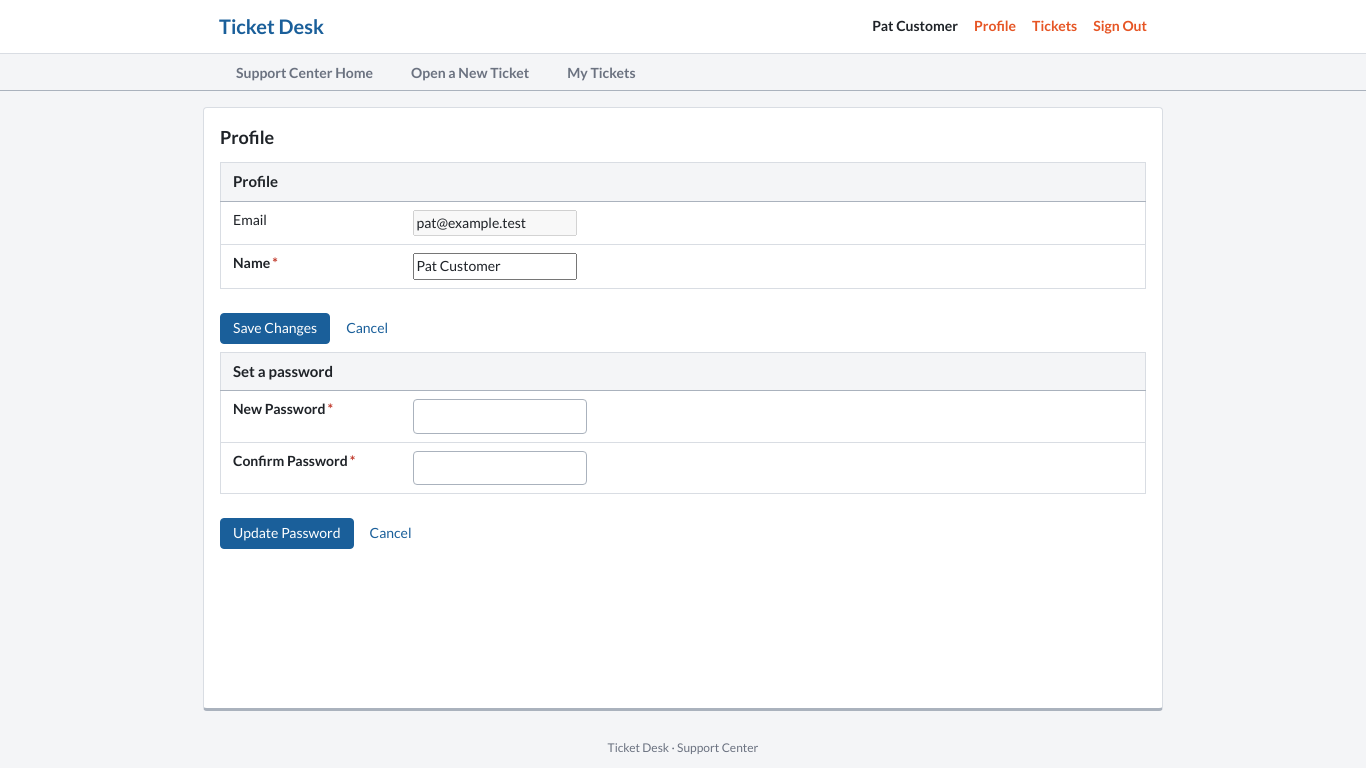
Test: has_password: false shows "Set a password" with no Current Password field and posts only password
Expected: the field labelled "Name*" is shown, [412,253,576,280]
Expected: the column heading "Set a password" is shown, [220,352,1146,391]
Type "newpass1" into the password field labelled "New Password*" at (500, 416), box [412,399,586,434]
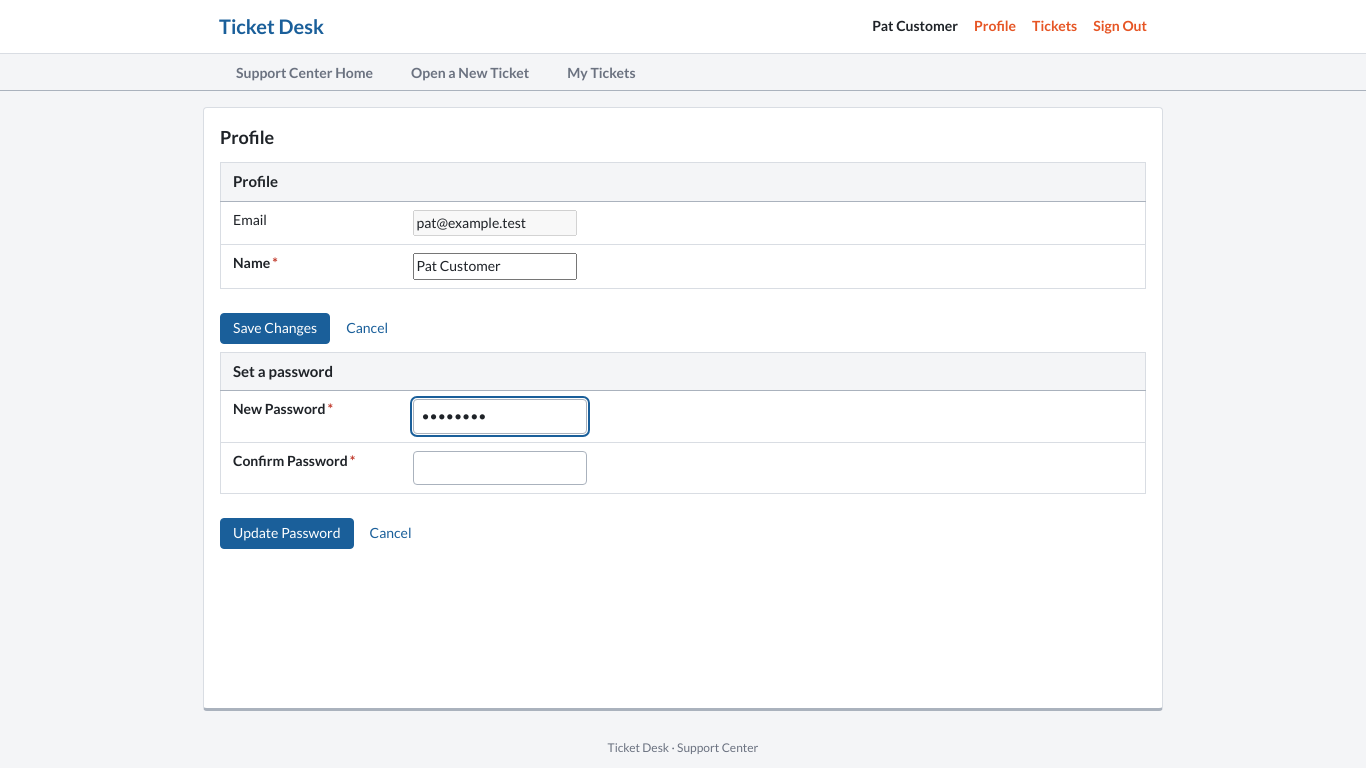
Type "newpass1" into the password field labelled "Confirm Password*" at (500, 468), box [412,451,586,485]
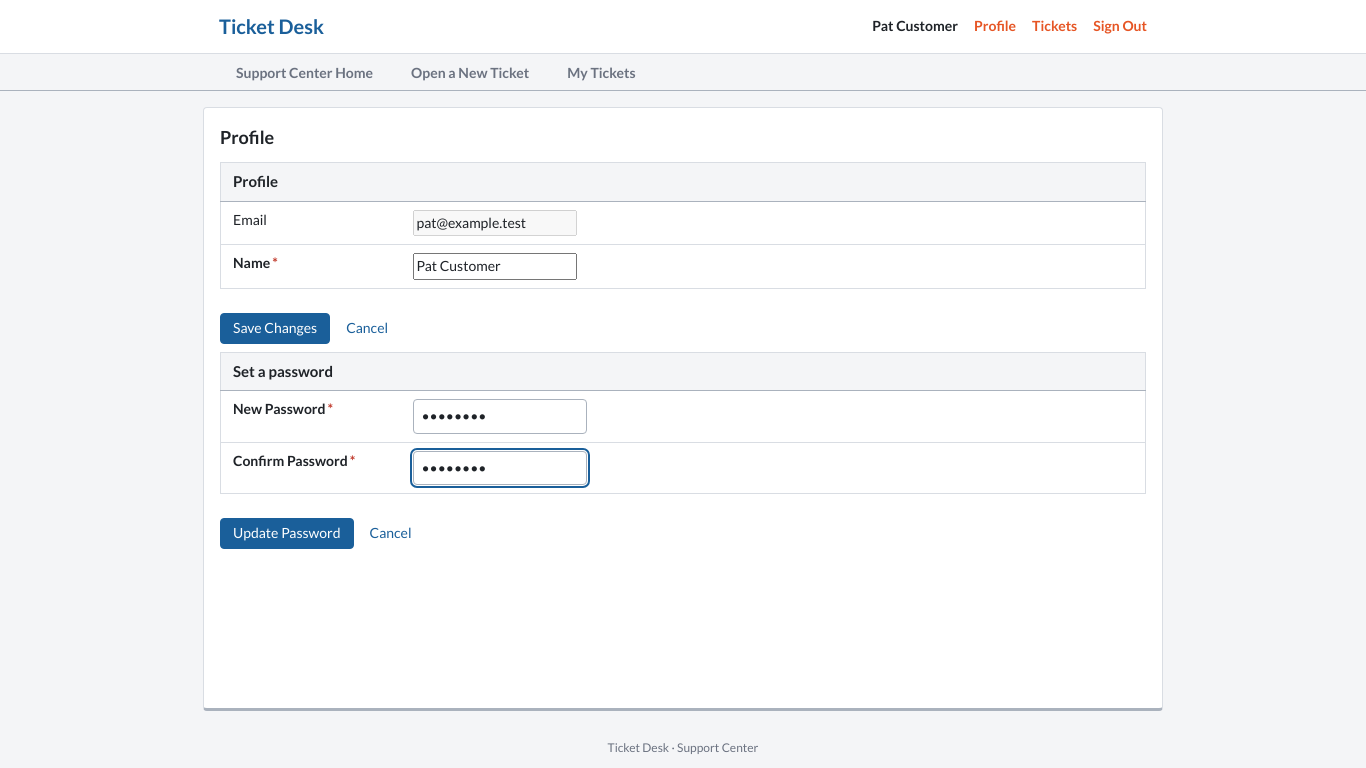
Click the button "Update Password" at (287, 533), box [220,518,354,549]
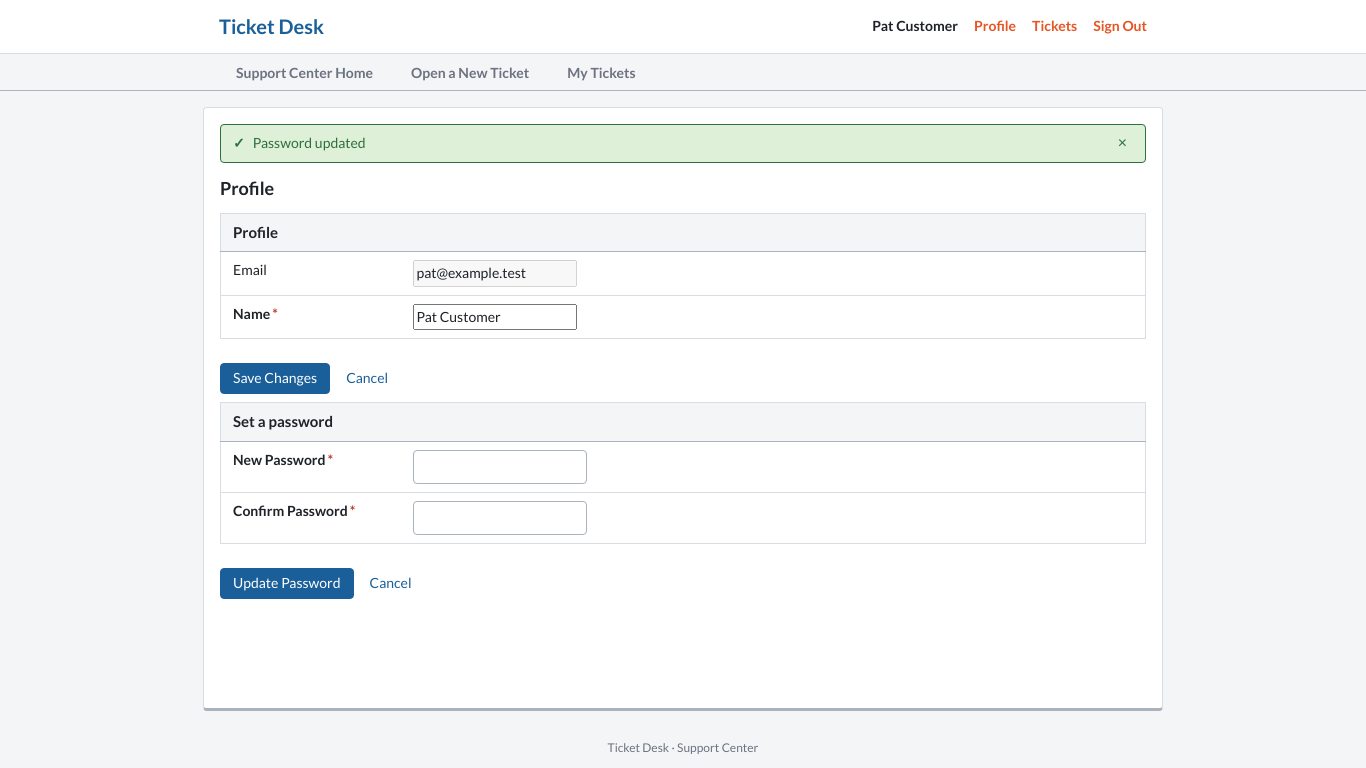
Expected: the text "Password updated" is shown, [253,134,366,151]
